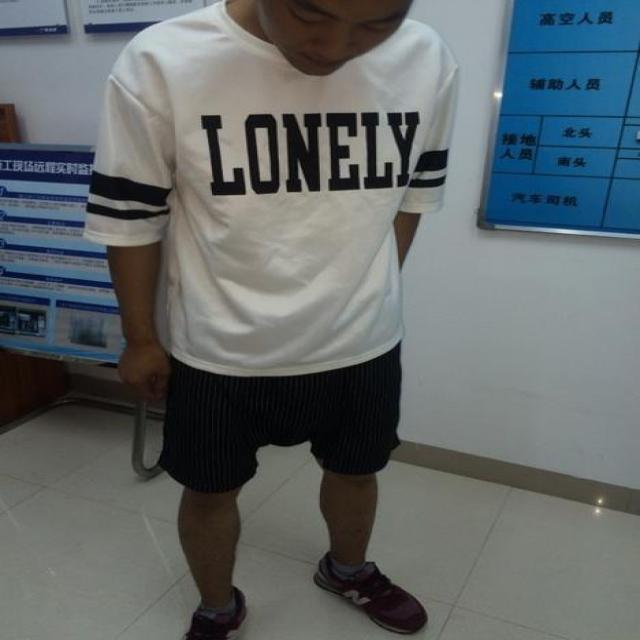long sleeve top: (83, 2, 461, 370)
shorts: (157, 338, 401, 475)
